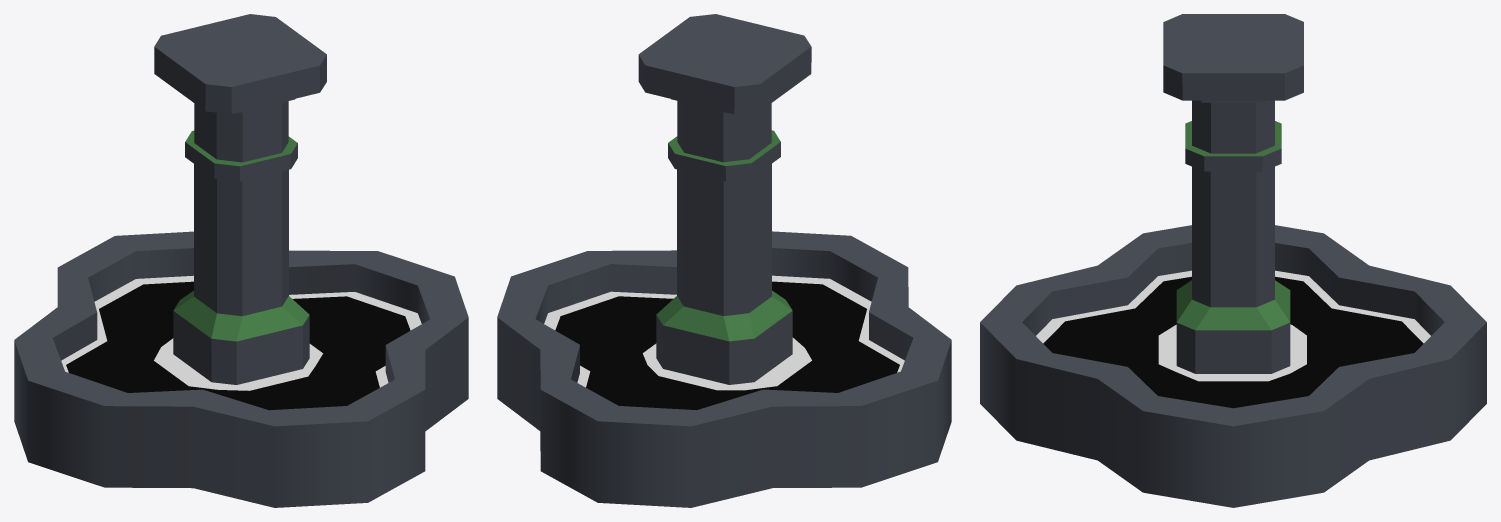
The model's file is Fountain.fbx.
The picture shows the model from 3 angles, left to right: view 1: azimuth 30°, elevation 25°; view 2: azimuth 150°, elevation 25°; view 3: azimuth 270°, elevation 25°; orthographic projection.
Parts seen in each view (by area): view 1: Fountain; view 2: Fountain; view 3: Fountain.
Part boxes in pixels (<box>): Fountain: <box>14,14,468,507</box>; Fountain: <box>497,14,951,507</box>; Fountain: <box>980,14,1486,507</box>.
Size of the model in its own units: 370 by 298 by 381.
